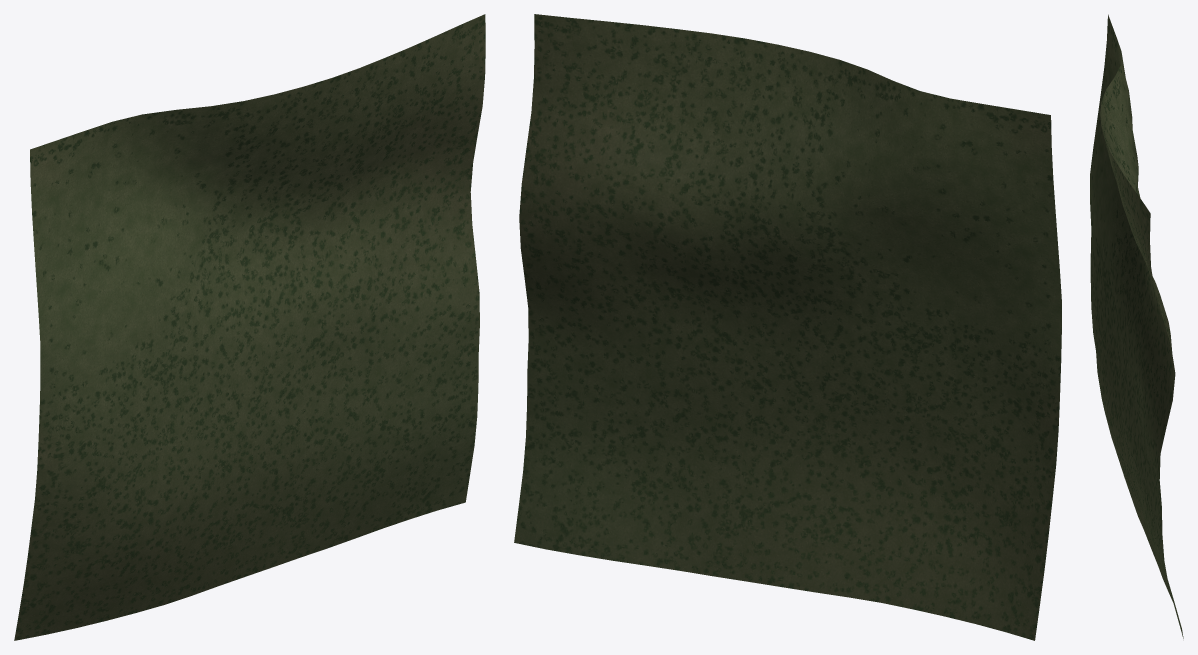
File: terrain_mid_04_01.obj
3 views of the same model, side by side, from view 1: azimuth 30°, elevation 25°; view 2: azimuth 150°, elevation 25°; view 3: azimuth 270°, elevation 25° (orthographic). The views are drawn at different scales.
Parts seen in each view (by area): view 1: terrain_mid_04_01; view 2: terrain_mid_04_01; view 3: terrain_mid_04_01.
Part boxes in pixels (bbox=[...]): terrain_mid_04_01: bbox=[14, 14, 485, 640]; terrain_mid_04_01: bbox=[514, 14, 1061, 640]; terrain_mid_04_01: bbox=[1090, 14, 1183, 638].
Bounding box in the file's own units: 320 × 320 × 63.75.
1 material, 1 textured.
